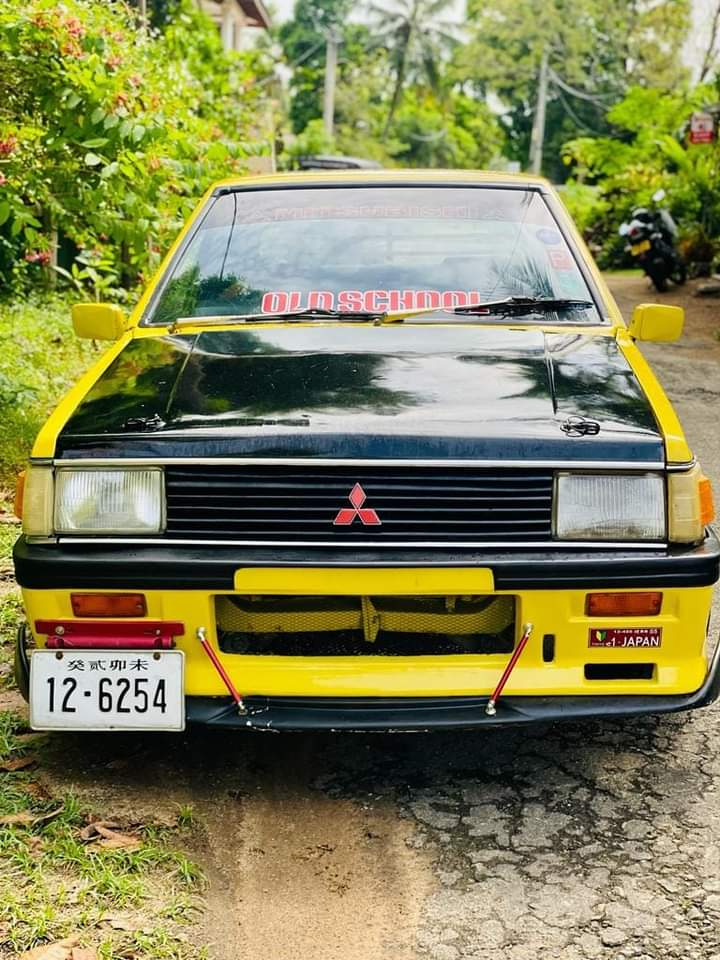number_plate: (26, 651, 182, 729)
